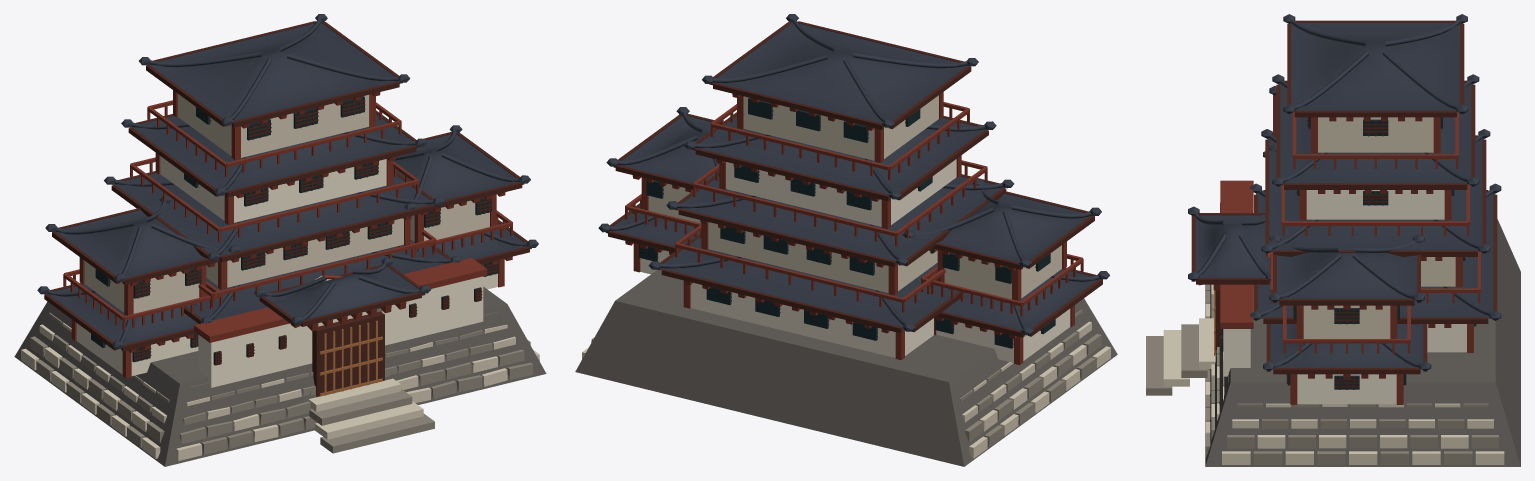
The model's file is japanese-castle.glb.
3 views of the same model, side by side, from view 1: azimuth 30°, elevation 25°; view 2: azimuth 150°, elevation 25°; view 3: azimuth 270°, elevation 25° (orthographic). The views are drawn at different scales.
Visible parts, largest first — view 1: japanese-castle-jp-castle-slate-roof-merged, japanese-castle-jp-plaster-shadow-merged, japanese-castle-jp-dark-timber-merged, japanese-castle-jp-dark-stone-merged, japanese-castle-jp-timber-merged, japanese-castle-jp-plaster-merged, japanese-castle-jp-stone-merged, japanese-castle-jp-window-dark-merged, japanese-castle-jp-bridge-highlight-merged; view 2: japanese-castle-jp-castle-slate-roof-merged, japanese-castle-jp-dark-stone-merged, japanese-castle-jp-timber-merged, japanese-castle-jp-plaster-shadow-merged, japanese-castle-jp-dark-timber-merged, japanese-castle-jp-plaster-merged, japanese-castle-jp-window-dark-merged, japanese-castle-jp-stone-merged; view 3: japanese-castle-jp-castle-slate-roof-merged, japanese-castle-jp-dark-stone-merged, japanese-castle-jp-plaster-shadow-merged, japanese-castle-jp-dark-timber-merged, japanese-castle-jp-timber-merged, japanese-castle-jp-plaster-merged, japanese-castle-jp-stone-merged, japanese-castle-jp-window-dark-merged.
Boxes of the visible parts, left/top/right/bottom form: japanese-castle-jp-castle-slate-roof-merged: left=37, top=14, right=538, bottom=348; japanese-castle-jp-plaster-shadow-merged: left=21, top=94, right=539, bottom=460; japanese-castle-jp-dark-timber-merged: left=44, top=21, right=531, bottom=396; japanese-castle-jp-dark-stone-merged: left=14, top=286, right=546, bottom=466; japanese-castle-jp-timber-merged: left=63, top=90, right=512, bottom=378; japanese-castle-jp-plaster-merged: left=76, top=156, right=497, bottom=387; japanese-castle-jp-stone-merged: left=30, top=311, right=532, bottom=454; japanese-castle-jp-window-dark-merged: left=91, top=96, right=499, bottom=365; japanese-castle-jp-bridge-highlight-merged: left=319, top=320, right=382, bottom=396; japanese-castle-jp-castle-slate-roof-merged: left=598, top=14, right=1109, bottom=335; japanese-castle-jp-dark-stone-merged: left=575, top=269, right=1117, bottom=466; japanese-castle-jp-timber-merged: left=625, top=92, right=1083, bottom=365; japanese-castle-jp-plaster-shadow-merged: left=582, top=95, right=1110, bottom=458; japanese-castle-jp-dark-timber-merged: left=605, top=21, right=1102, bottom=345; japanese-castle-jp-plaster-merged: left=640, top=159, right=1070, bottom=362; japanese-castle-jp-window-dark-merged: left=639, top=97, right=1055, bottom=348; japanese-castle-jp-stone-merged: left=591, top=309, right=1101, bottom=447; japanese-castle-jp-castle-slate-roof-merged: left=1188, top=14, right=1501, bottom=371; japanese-castle-jp-dark-stone-merged: left=1205, top=219, right=1520, bottom=466; japanese-castle-jp-plaster-shadow-merged: left=1163, top=117, right=1504, bottom=464; japanese-castle-jp-dark-timber-merged: left=1191, top=20, right=1497, bottom=389; japanese-castle-jp-timber-merged: left=1199, top=112, right=1480, bottom=404; japanese-castle-jp-plaster-merged: left=1223, top=190, right=1466, bottom=404; japanese-castle-jp-stone-merged: left=1146, top=284, right=1498, bottom=464; japanese-castle-jp-window-dark-merged: left=1221, top=117, right=1476, bottom=389.
Size of the model in its own units: 10.16 by 7.05 by 7.43.
